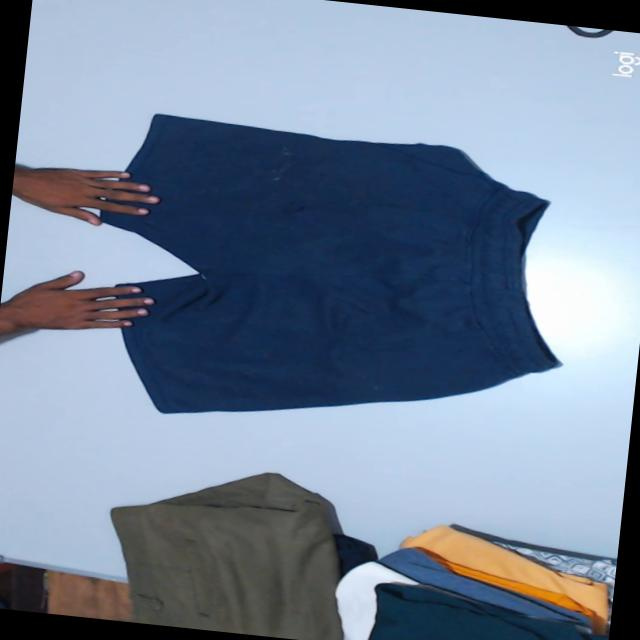new-garment: (100, 114, 557, 412)
